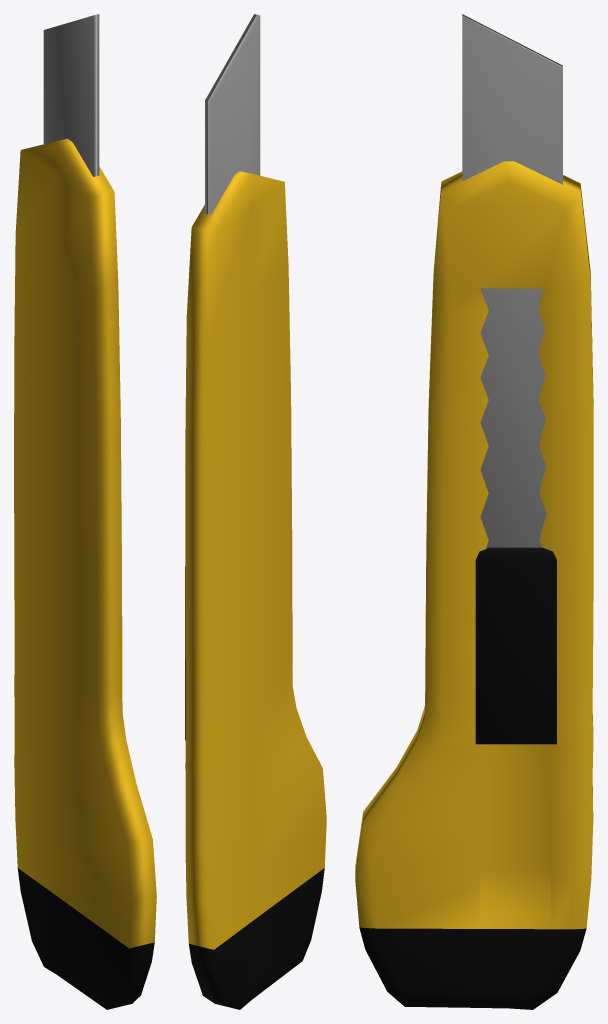
File: Cuter.fbx
The picture shows the model from 3 angles, left to right: view 1: azimuth 30°, elevation 25°; view 2: azimuth 150°, elevation 25°; view 3: azimuth 270°, elevation 25°; orthographic projection. The views are drawn at different scales.
Visible parts, largest first — view 1: Cube, Cube.001; view 2: Cube, Cube.001; view 3: Cube, Cube.001.
Part boxes in pixels (x1,y1,x2,y2): Cube: [14, 138, 156, 1009]; Cube.001: [43, 14, 99, 176]; Cube: [185, 171, 326, 1009]; Cube.001: [185, 14, 260, 740]; Cube: [355, 161, 593, 1009]; Cube.001: [462, 14, 562, 744].
Size of the model in its own units: 20.08 by 428 by 93.5.
